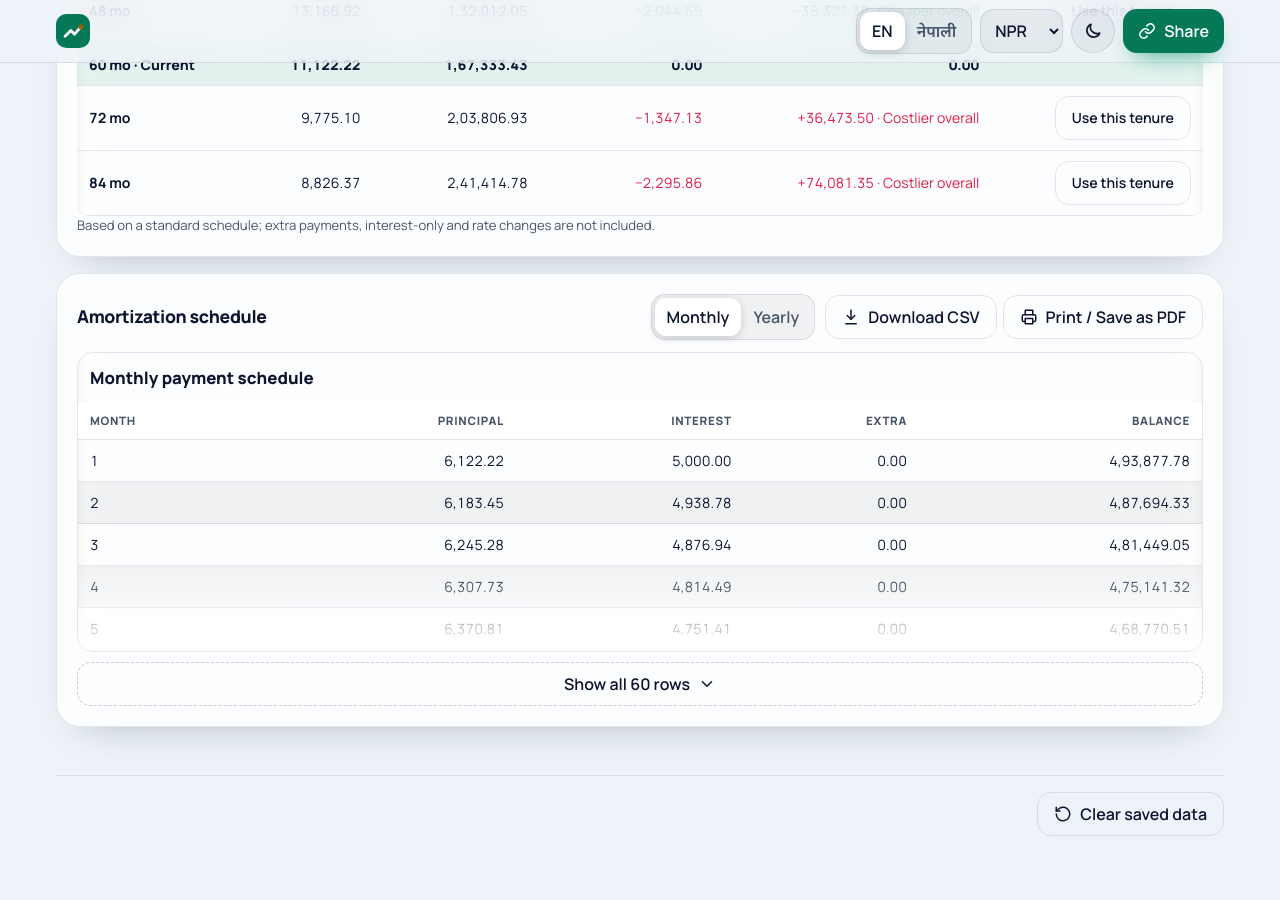
Test: v2 redesign › amortization schedule collapses behind a show-all toggle
This screenshot has width=1280, height=900.
(page scrolled)
Click the button "Show all 60 rows" at (640, 684), box [77, 662, 1203, 706]
(page scrolled)
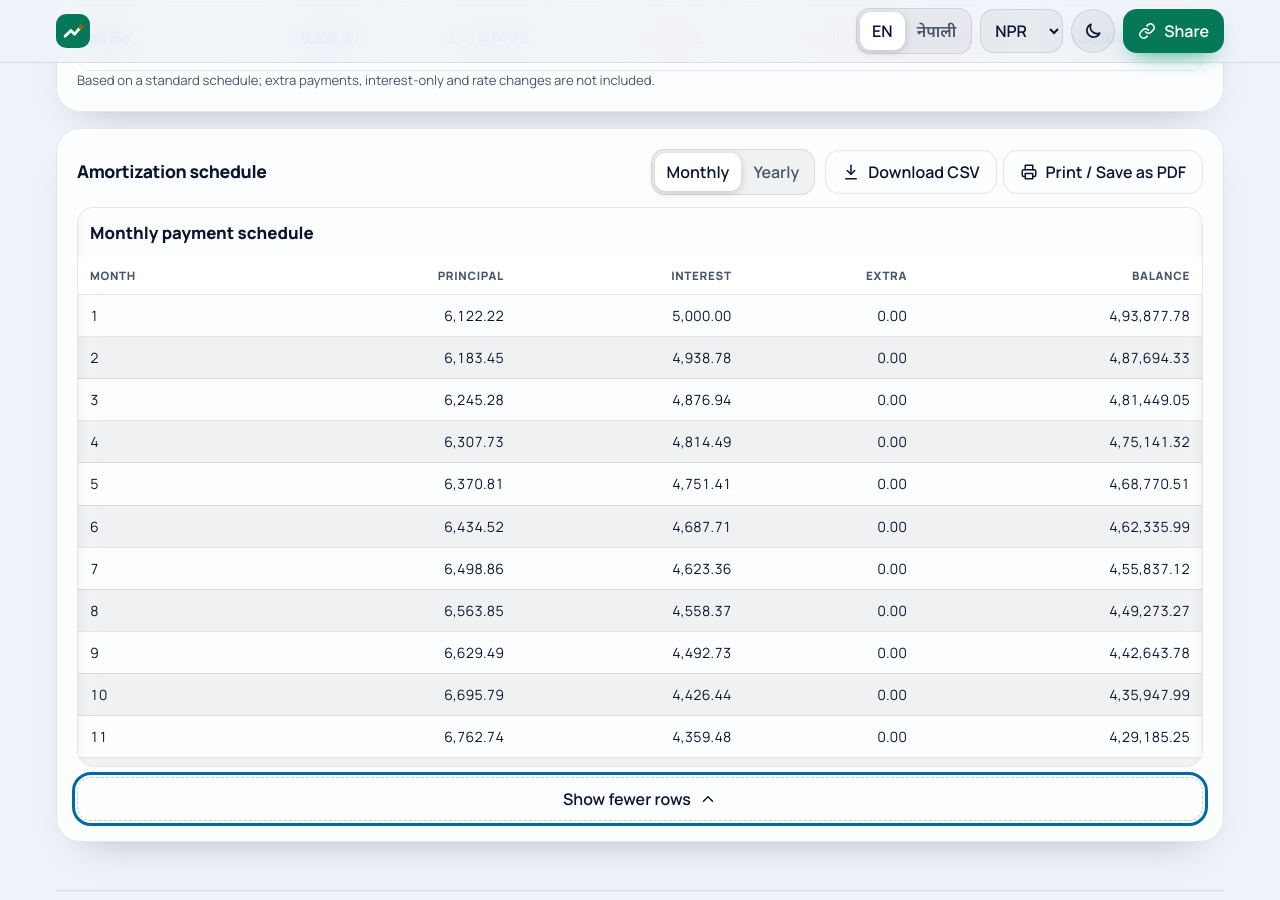
Now the button named "Show all 60 rows" is expanded, box [77, 776, 1203, 820]
